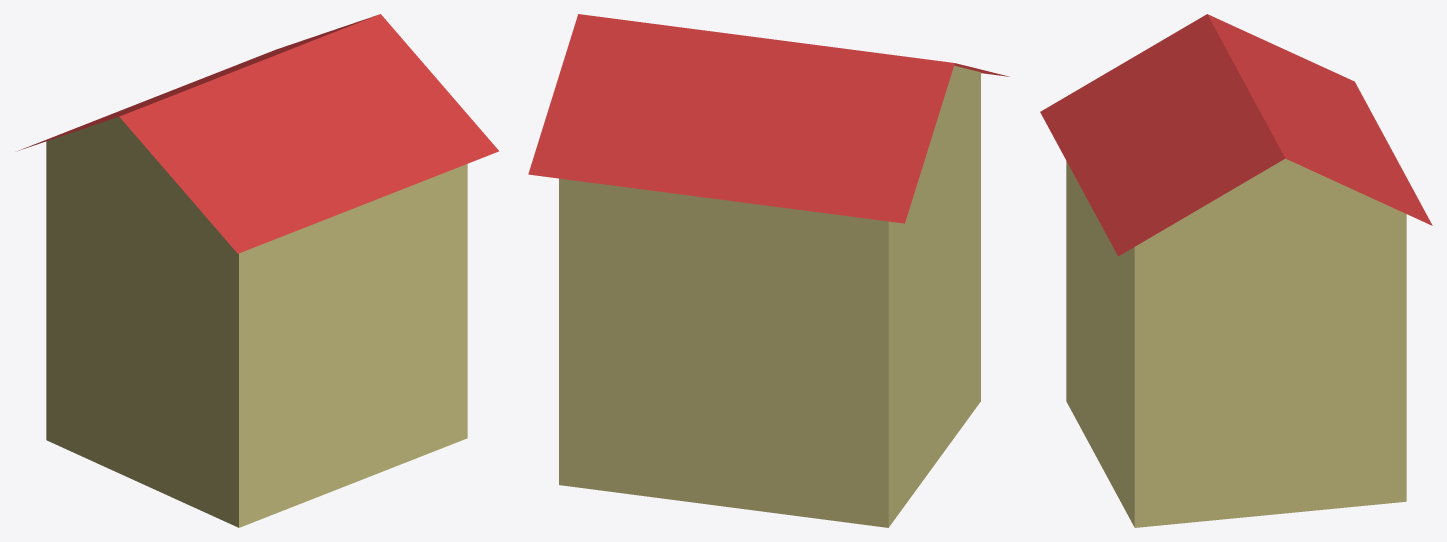
The picture shows the model from 3 angles, left to right: view 1: azimuth 30°, elevation 25°; view 2: azimuth 150°, elevation 25°; view 3: azimuth 270°, elevation 25°; orthographic projection. The views are drawn at different scales.
Bounding box in the file's own units: 9.39 × 8.91 × 9.12.
